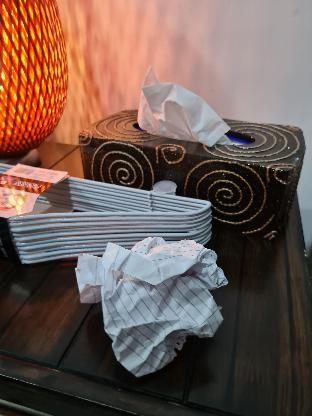Others: (76, 237, 230, 373)
